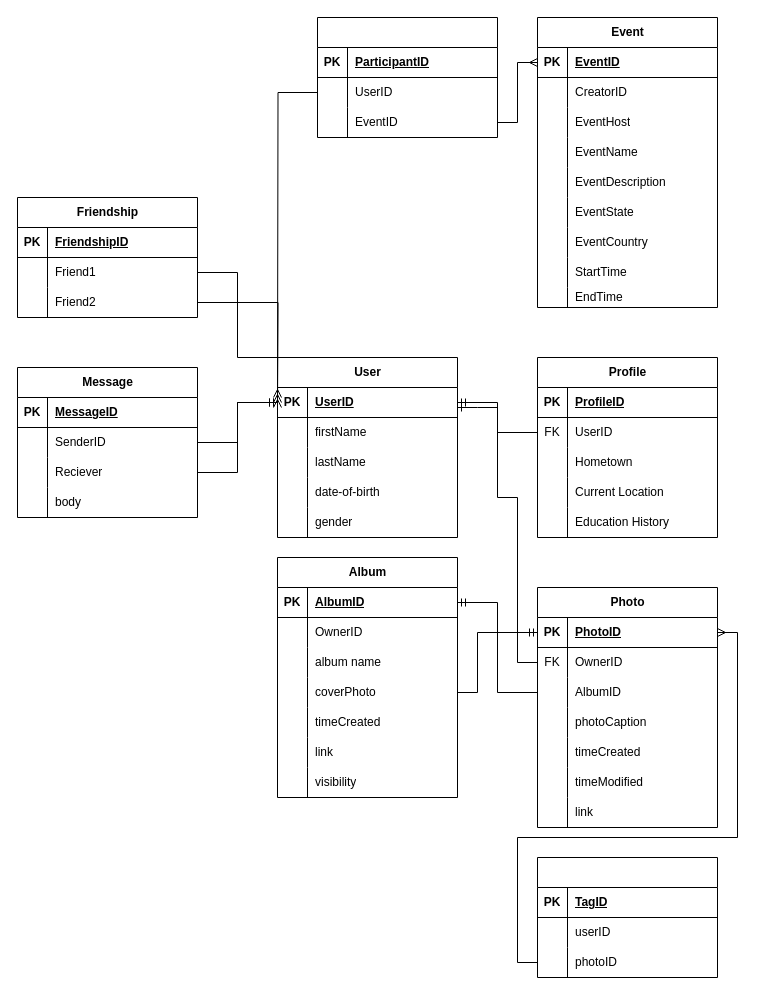
This 763x995 diagram has some shape labels left out. Here are the shapes that lost their labels. From the top down, the box of each, then its label:
(316, 16, 498, 138): EventParticipant
(536, 856, 718, 978): Tags
